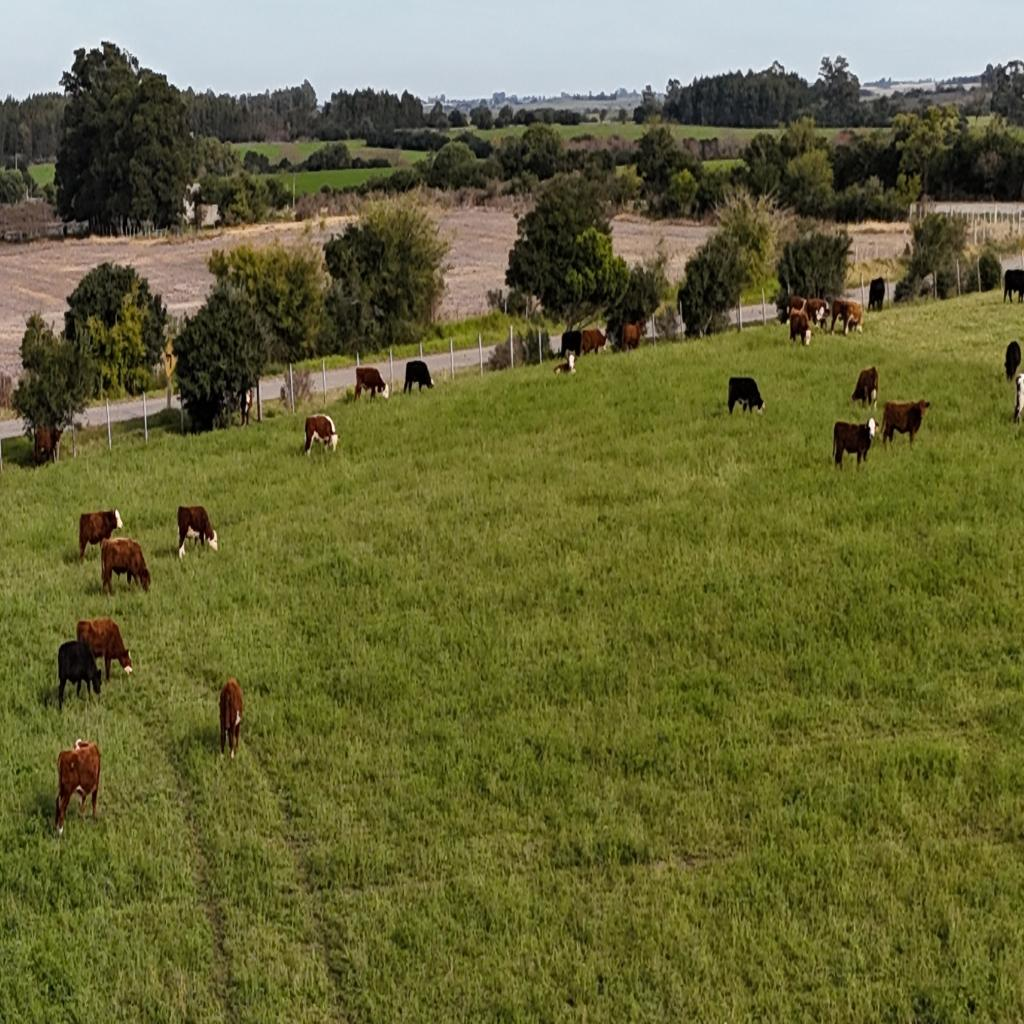cow: (55, 738, 102, 835), (74, 613, 135, 679), (55, 639, 103, 706), (100, 537, 152, 596), (879, 398, 930, 448), (832, 417, 878, 469), (218, 676, 243, 760), (76, 504, 125, 544), (177, 504, 217, 552), (304, 414, 340, 456), (728, 376, 763, 415), (353, 364, 389, 401), (830, 298, 864, 336), (32, 425, 64, 465), (850, 365, 879, 408), (403, 359, 435, 394), (788, 310, 814, 347), (620, 320, 646, 352), (809, 295, 831, 332), (1002, 268, 1024, 304), (580, 328, 607, 356), (551, 352, 579, 377), (560, 331, 582, 361), (1004, 341, 1020, 382), (868, 278, 886, 312), (240, 387, 253, 426)
